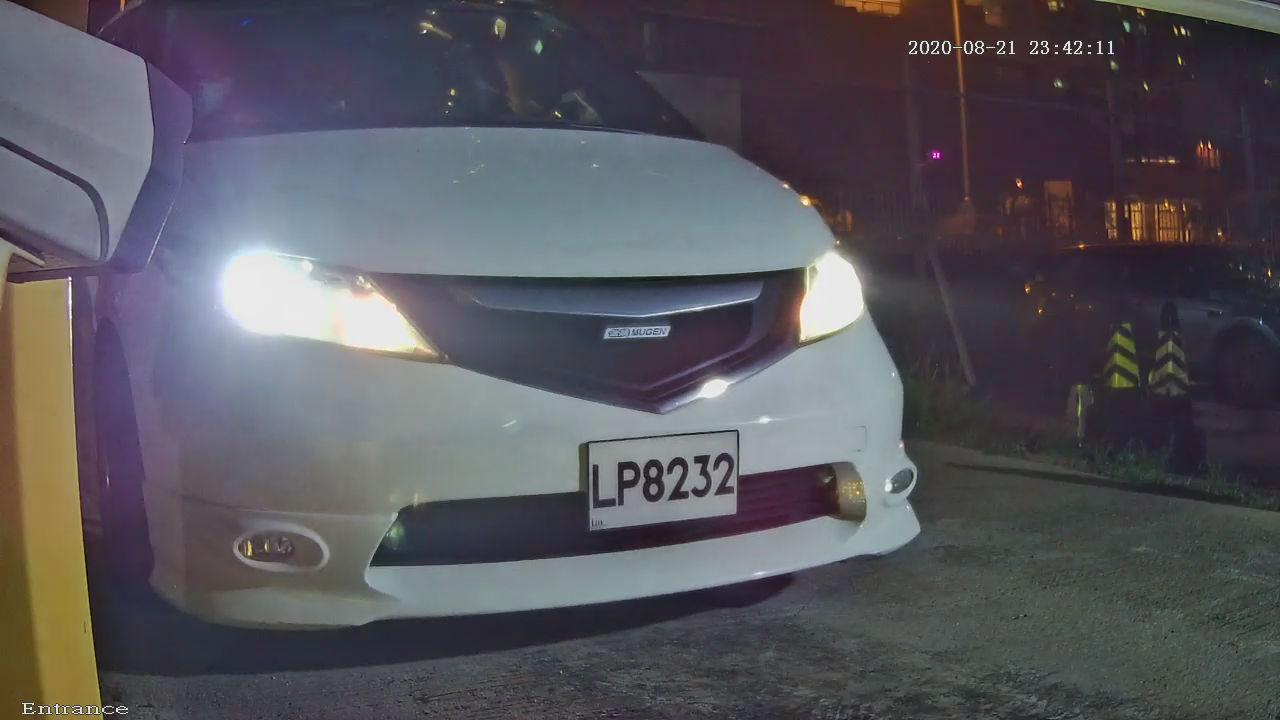Car: (12, 7, 972, 679)
License Plate: (510, 399, 815, 555)
